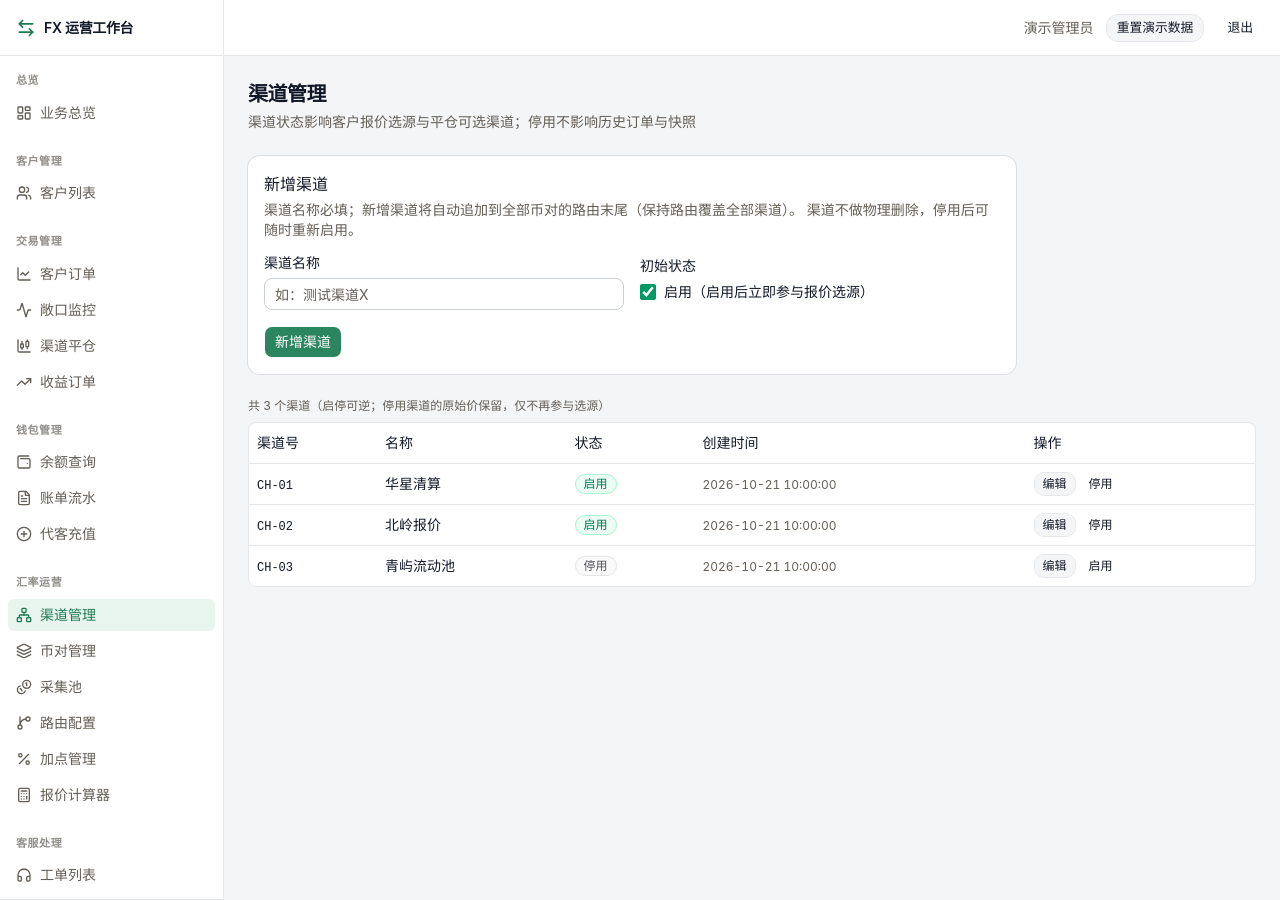
Scenario: 渠道管理 › 编辑弹层空名称被拒：弹层内就地展示领域中文提示且 store 零变更
Click the button "编辑" in the row of "CH-01" at (1055, 484), box [1034, 472, 1076, 496]
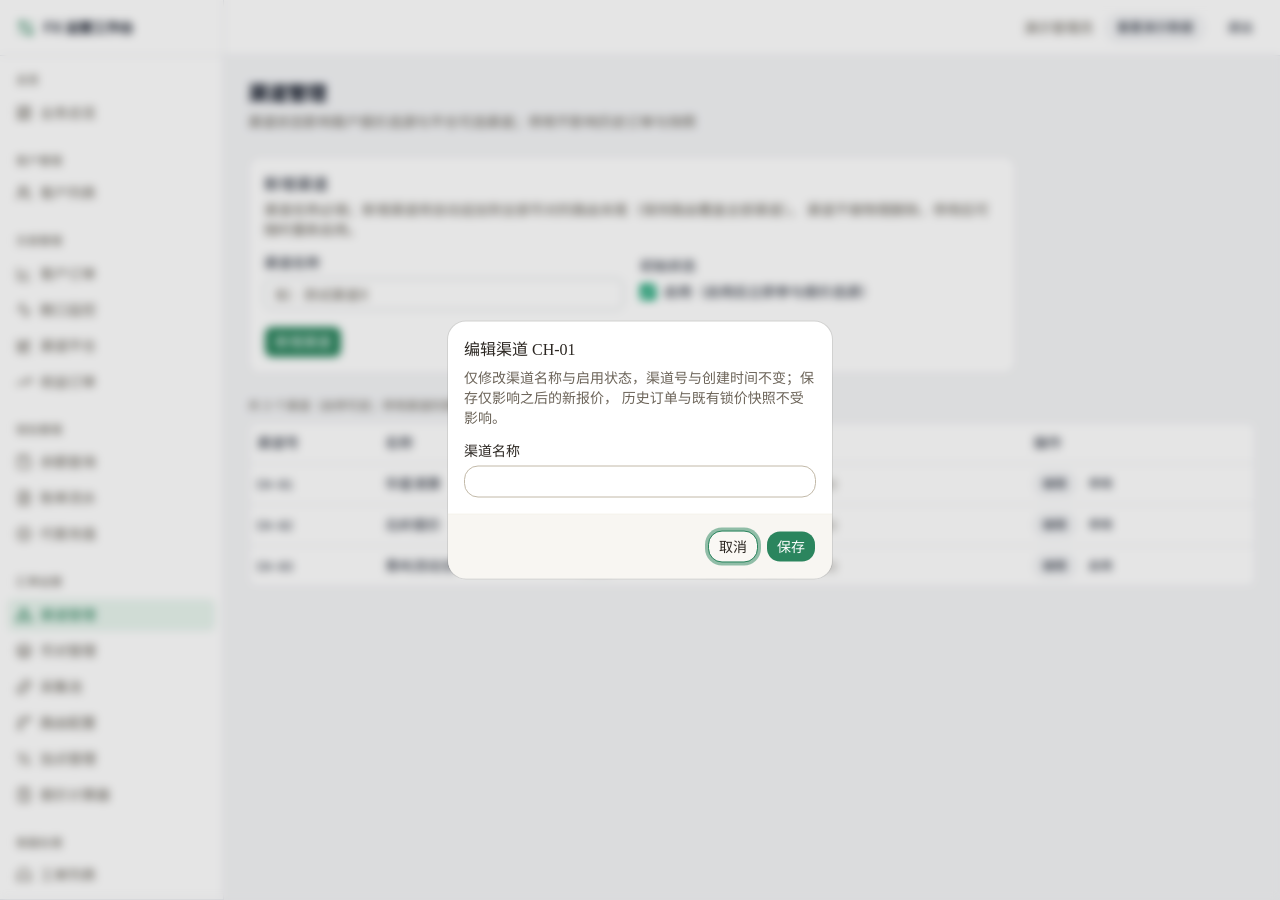
Click the button "保存" at (791, 546), box [766, 530, 816, 562]
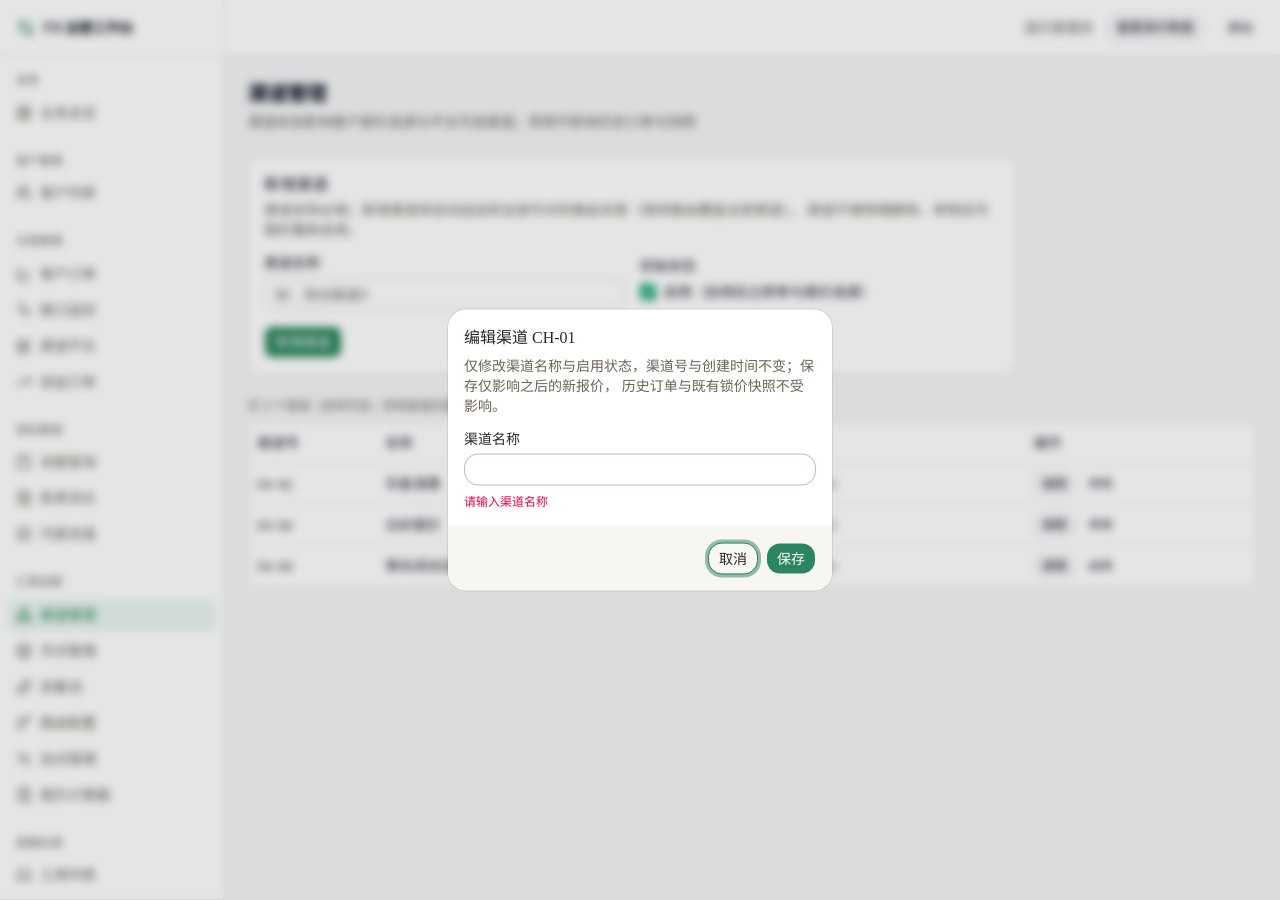
Expected: the text "华星清算" is shown, [385, 474, 441, 492]
Now the text "请输入渠道名称" is shown, box [464, 494, 548, 508]
